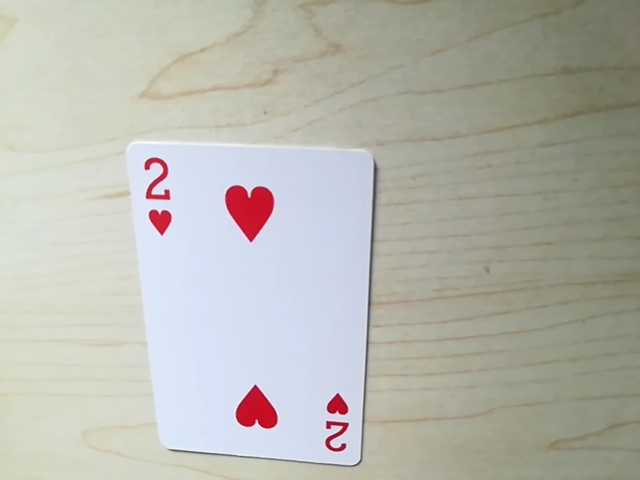hx 2: (134, 152, 181, 228), (317, 390, 354, 462)
